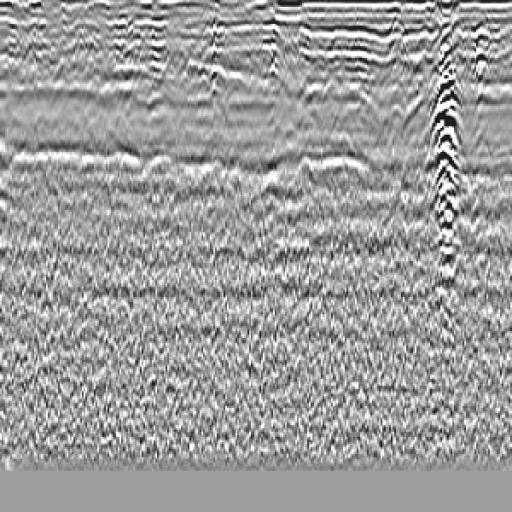metalic: (421, 10, 477, 302)
